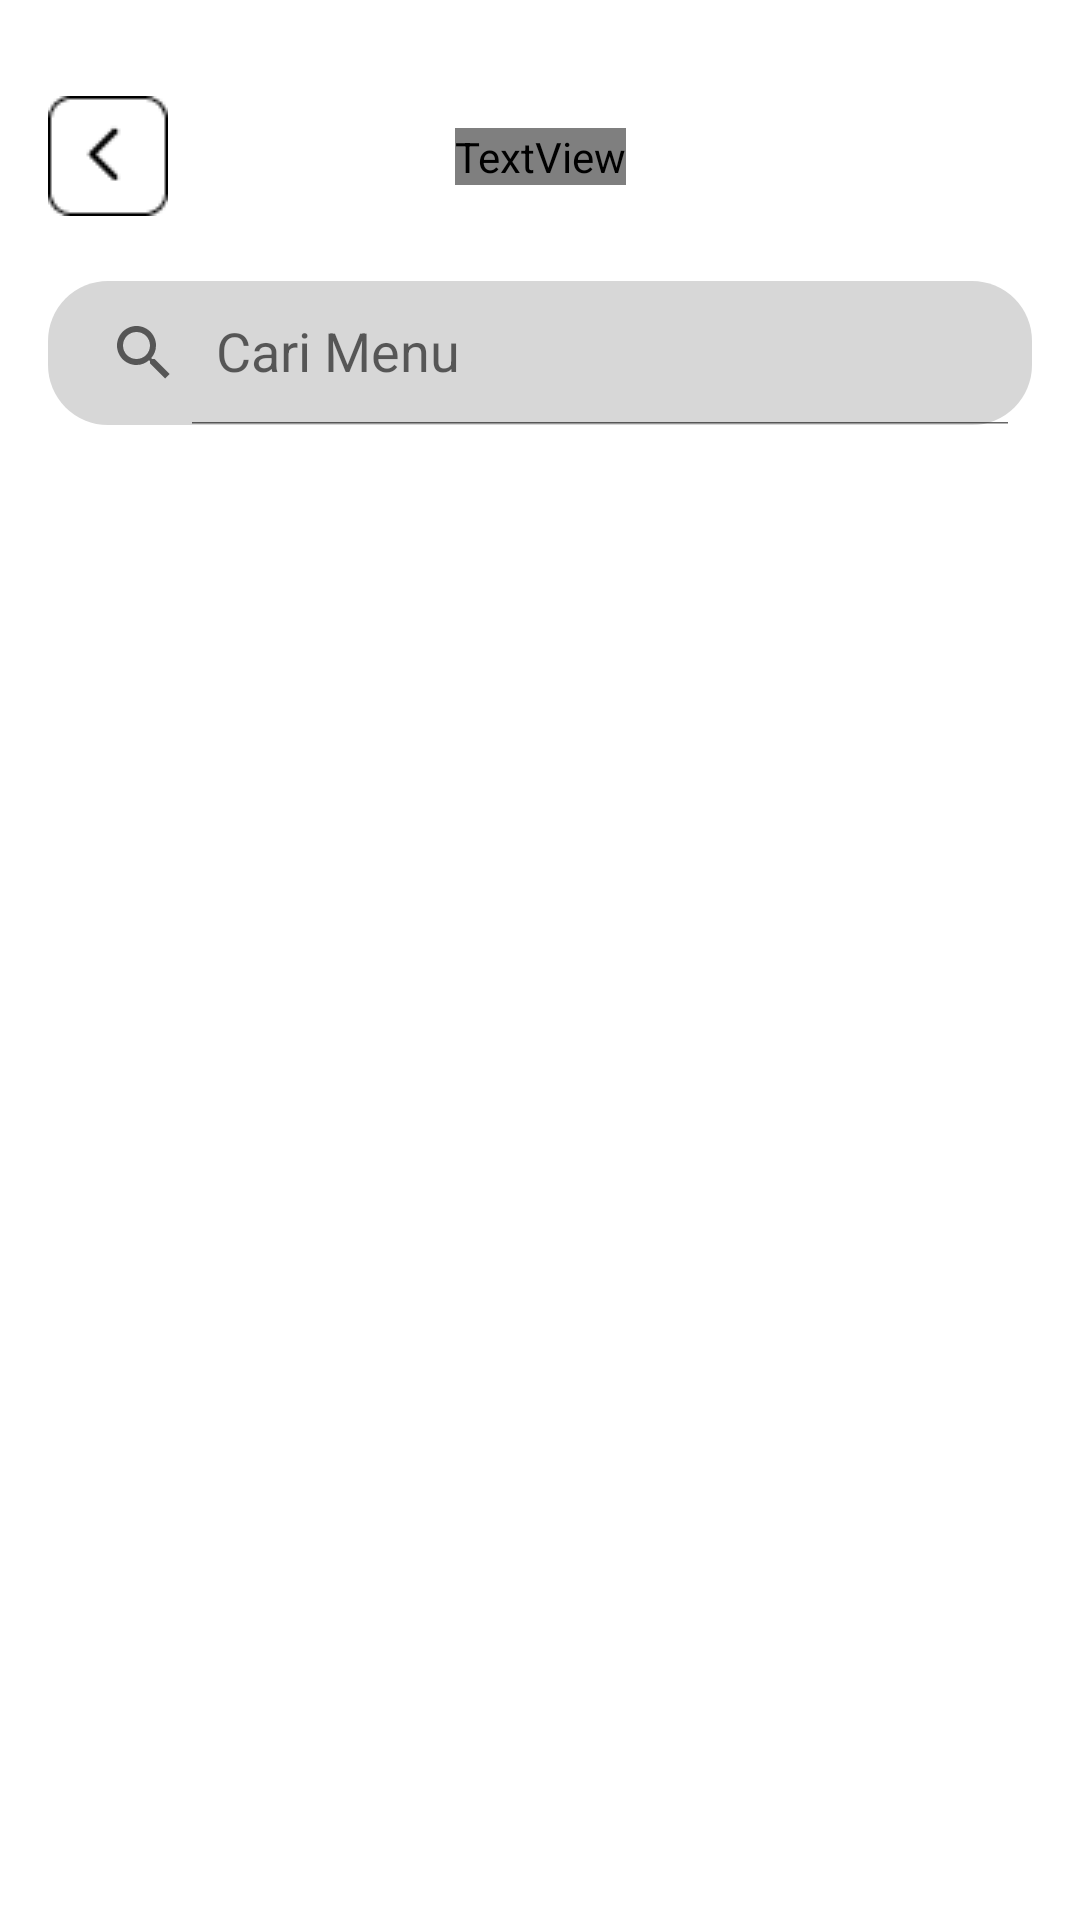

Where icons sit on this 1080px x 1920px app screen, as (x1, y1, x2, y2):
back: (48, 96, 168, 216)
